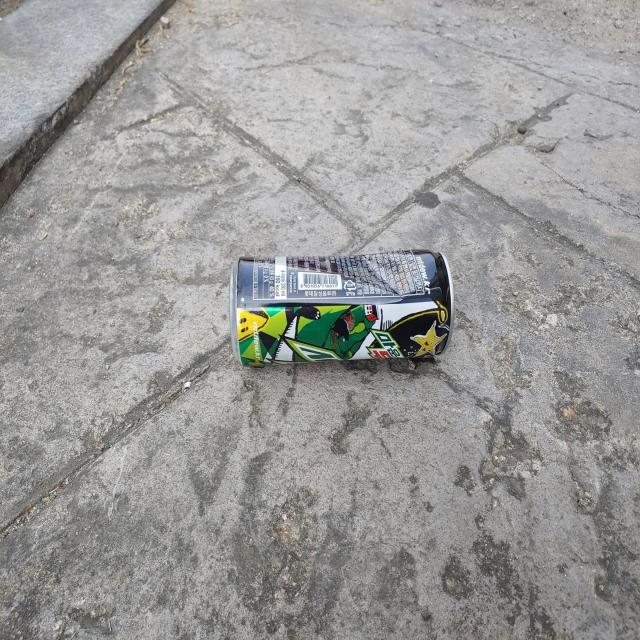can: (230, 249, 455, 366)
